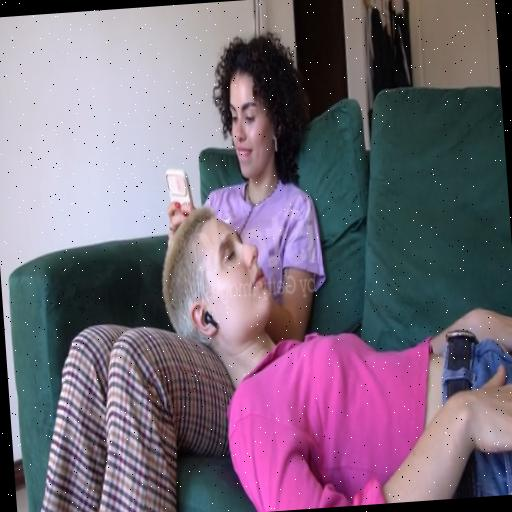earphone: (203, 310, 218, 332)
